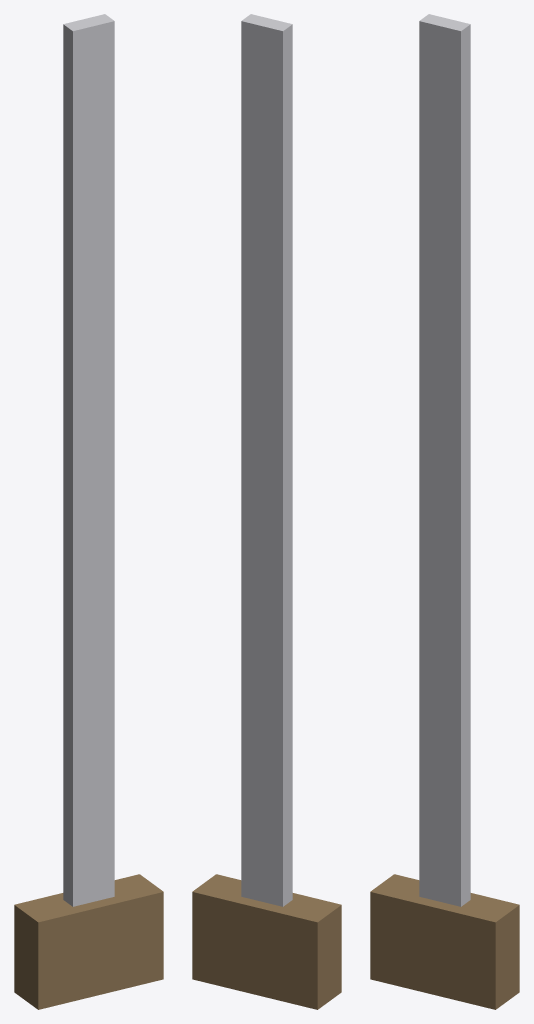
The model's file is sword.fbx.
3 renders of one model, left to right at view 1: azimuth 30°, elevation 25°; view 2: azimuth 150°, elevation 25°; view 3: azimuth 330°, elevation 25°, orthographic.
Parts seen in each view (by area): view 1: Blade, Hilt; view 2: Blade, Hilt; view 3: Blade, Hilt.
Boxes of the visible parts, box(x1,y1,x2,y2) form: Blade: box(63, 14, 114, 906); Hilt: box(14, 874, 163, 1009); Blade: box(241, 14, 292, 906); Hilt: box(192, 874, 341, 1009); Blade: box(419, 14, 470, 906); Hilt: box(370, 874, 519, 1009).
Size of the model in its own units: 15 by 5 by 110.
